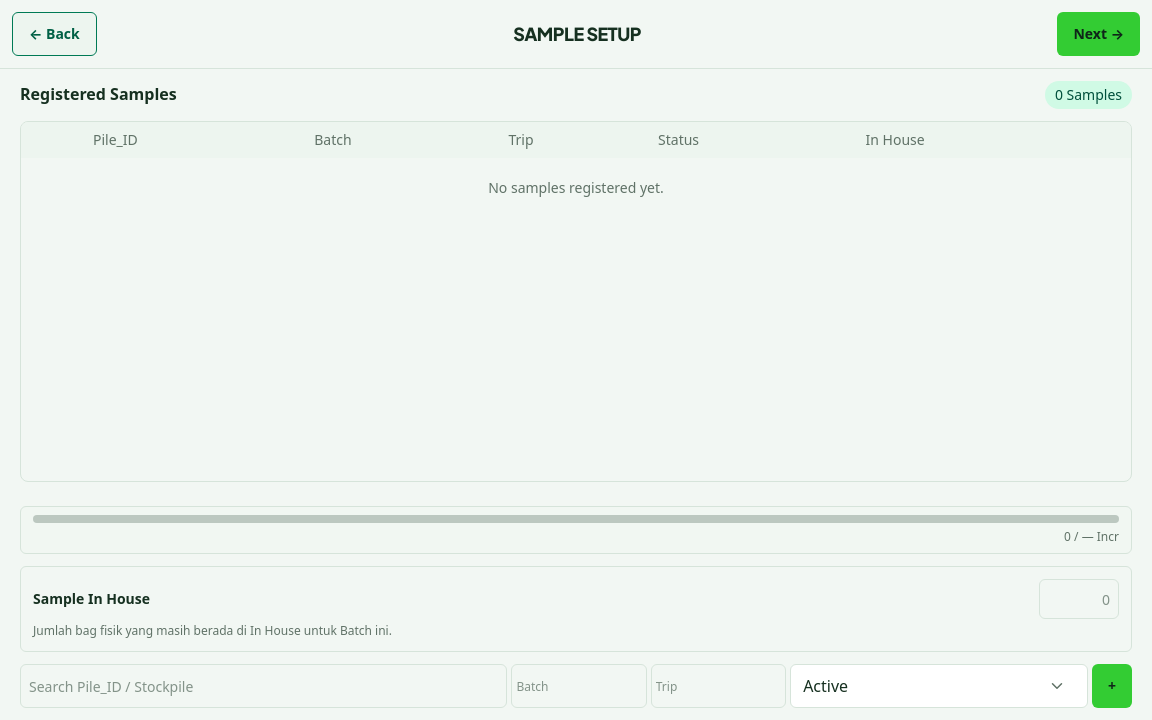
PileRegistrationPage › searches master Piles by Pile ID and Stockpile, then adds a selected master row and clears the entry
The width and height of the screenshot is (1152, 720).
Expected: the dropdown named "Status" holds "Active", x1=803 y1=674 x2=1031 y2=698
In the field named "Cari Pile/Stockpile": [264, 686] box x1=20 y1=664 x2=507 y2=708, type "STOCK-A"
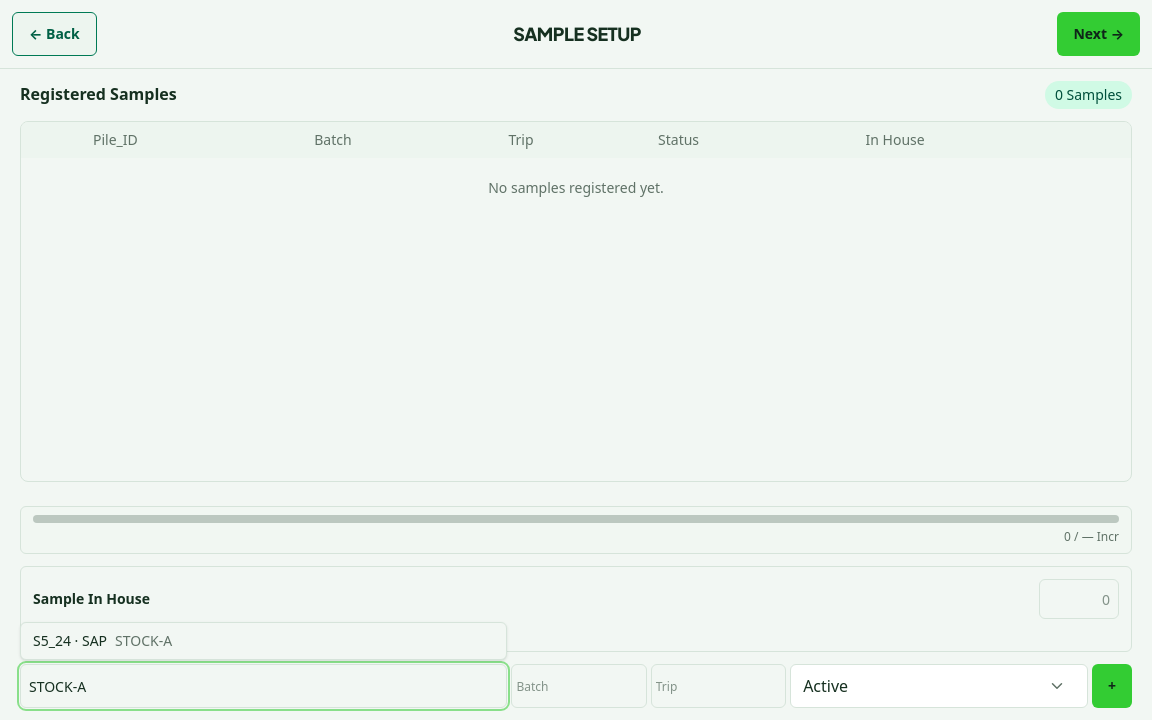
Click the button "S5_24 · SAPSTOCK-A": [52, 640] box x1=21 y1=623 x2=506 y2=659
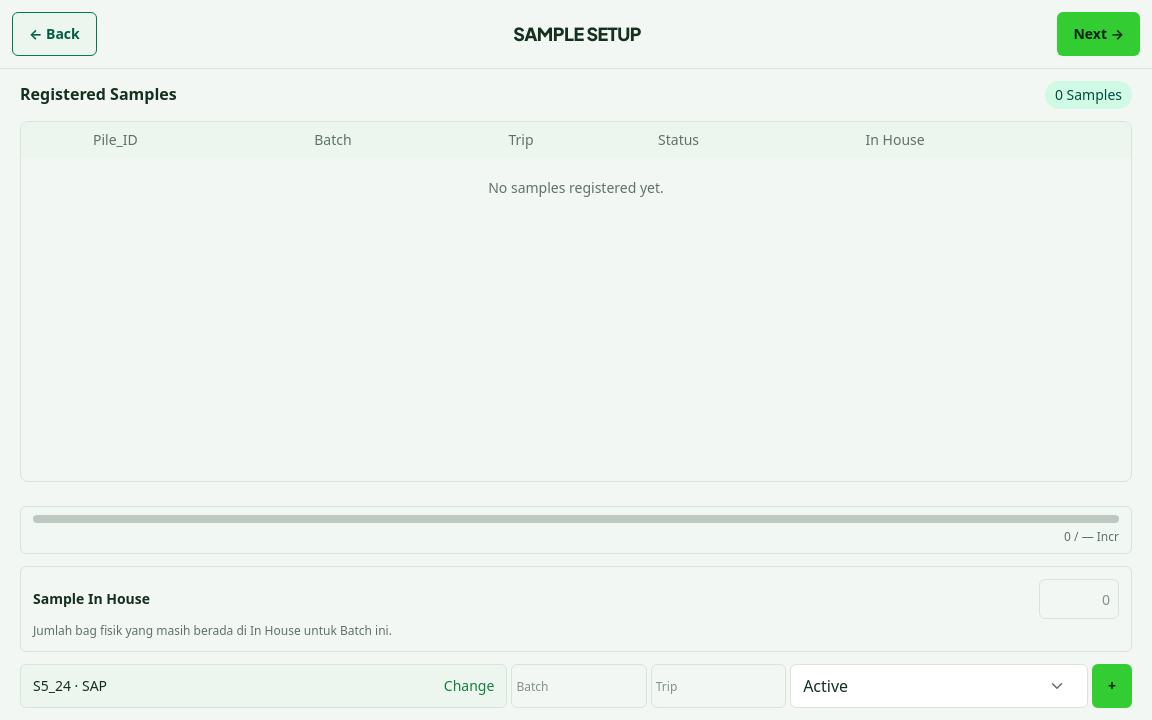
In the field labelled "Batch": [579, 686] box x1=511 y1=664 x2=647 y2=708, type "008"
In the field labelled "Trip": [718, 686] box x1=651 y1=664 x2=786 y2=708, type "006"
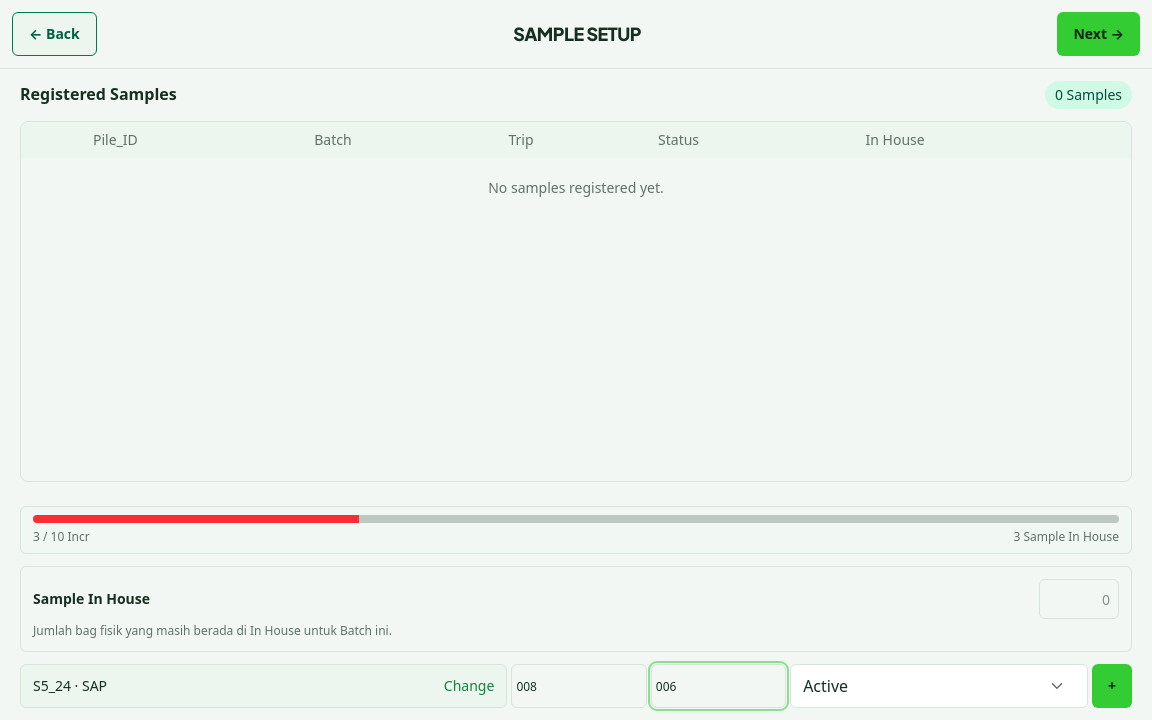
Click the dropdown named "Status": [917, 686] box x1=803 y1=674 x2=1031 y2=698
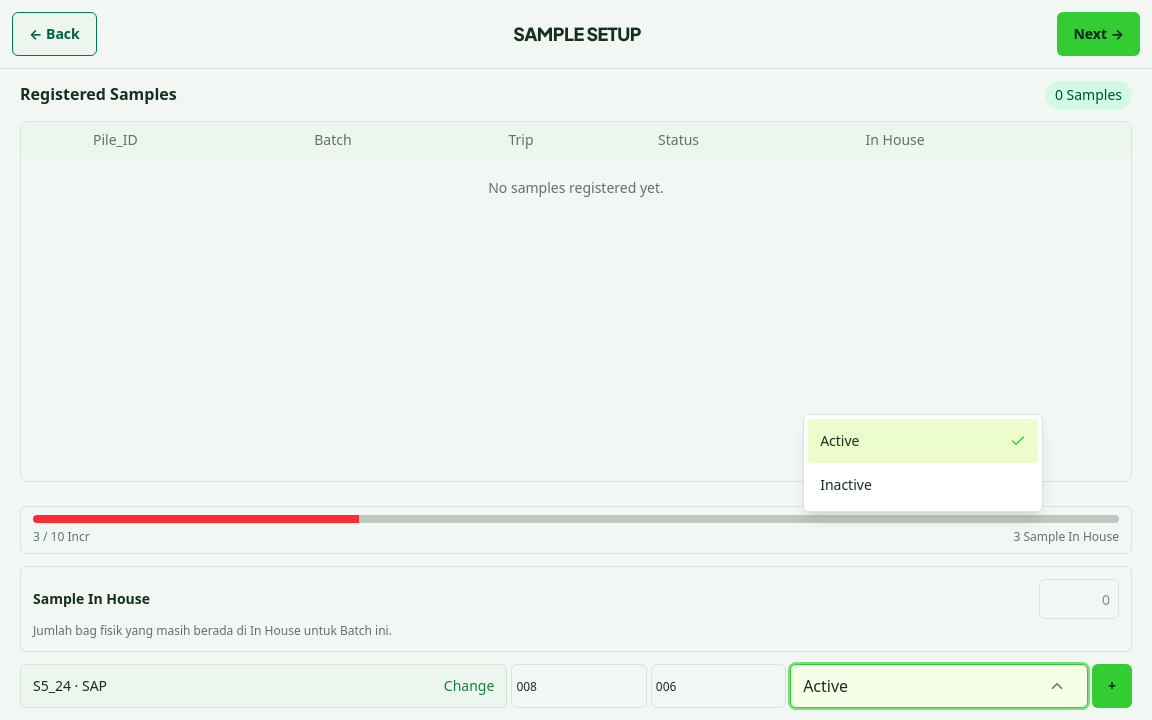
Click the option "Inactive": [923, 485] box x1=808 y1=463 x2=1038 y2=507
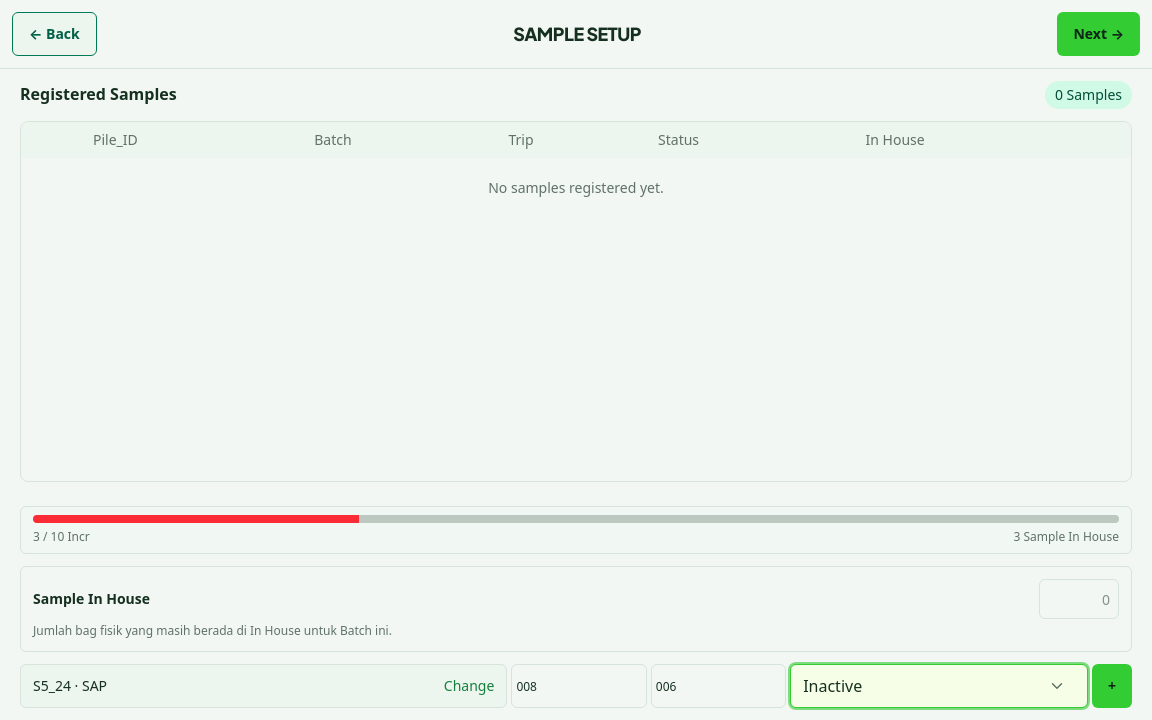
Expected: the element named "Sample progress" shows "3 / 10 Incr", x1=33 y1=515 x2=1119 y2=545
Expected: the element named "Sample progress" shows "3 Sample In House", x1=33 y1=515 x2=1119 y2=545
Click the button named "Add Sample": [1112, 686] box x1=1092 y1=664 x2=1132 y2=708
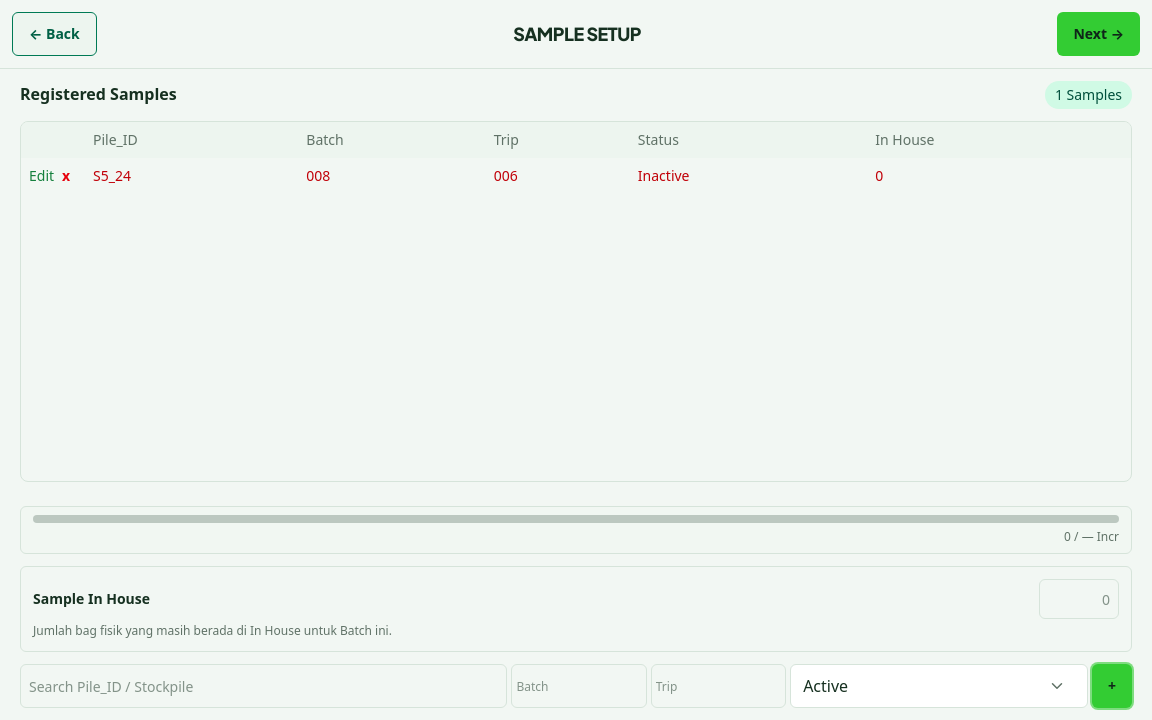
Expected: the text "008" is shown, x1=298 y1=158 x2=486 y2=194
Expected: the field named "Cari Pile/Stockpile" is empty, x1=20 y1=664 x2=507 y2=708
Expected: the field labelled "Batch" is empty, x1=511 y1=664 x2=647 y2=708
